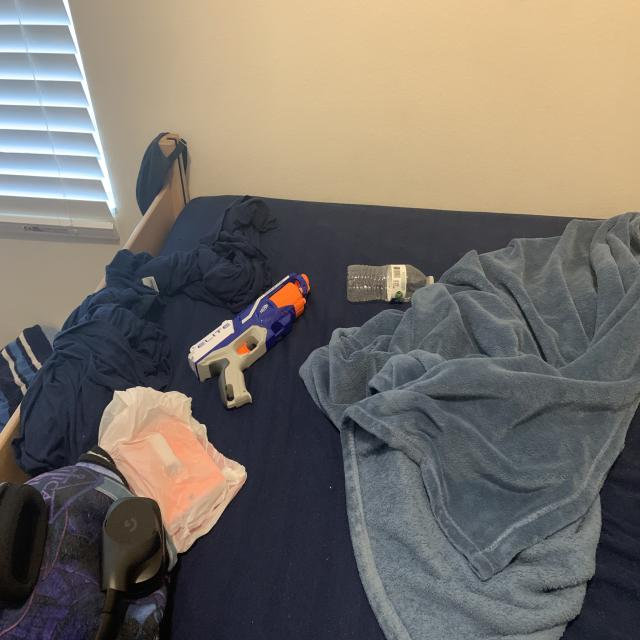nerf-maverik: (168, 263, 320, 422)
